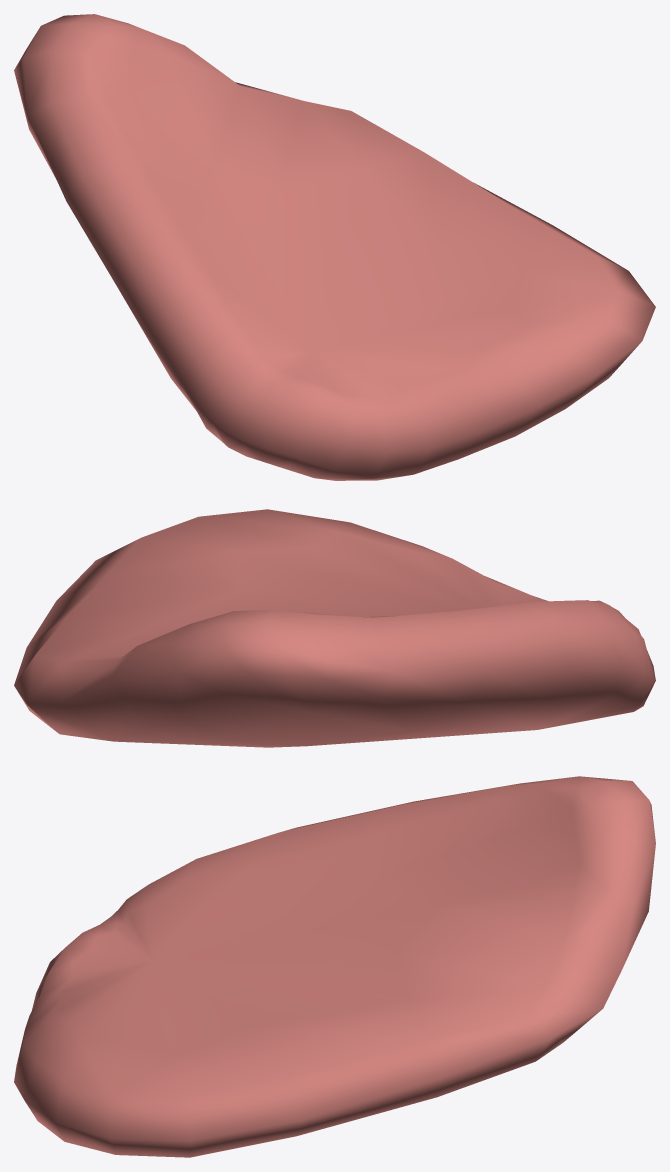
3 renders of one model, top to bottom at view 1: azimuth 30°, elevation 25°; view 2: azimuth 150°, elevation 25°; view 3: azimuth 270°, elevation 25°, orthographic. The views are drawn at different scales.
Parts seen in each view (by area): view 1: ZA_61b30a05feff1189; view 2: ZA_61b30a05feff1189; view 3: ZA_61b30a05feff1189.
Part boxes in pixels (bbox=[...]): ZA_61b30a05feff1189: bbox=[14, 14, 655, 480]; ZA_61b30a05feff1189: bbox=[14, 509, 655, 747]; ZA_61b30a05feff1189: bbox=[14, 776, 655, 1157].
Bounding box in the file's own units: 0.00266 × 0.00147 × 0.00316.
